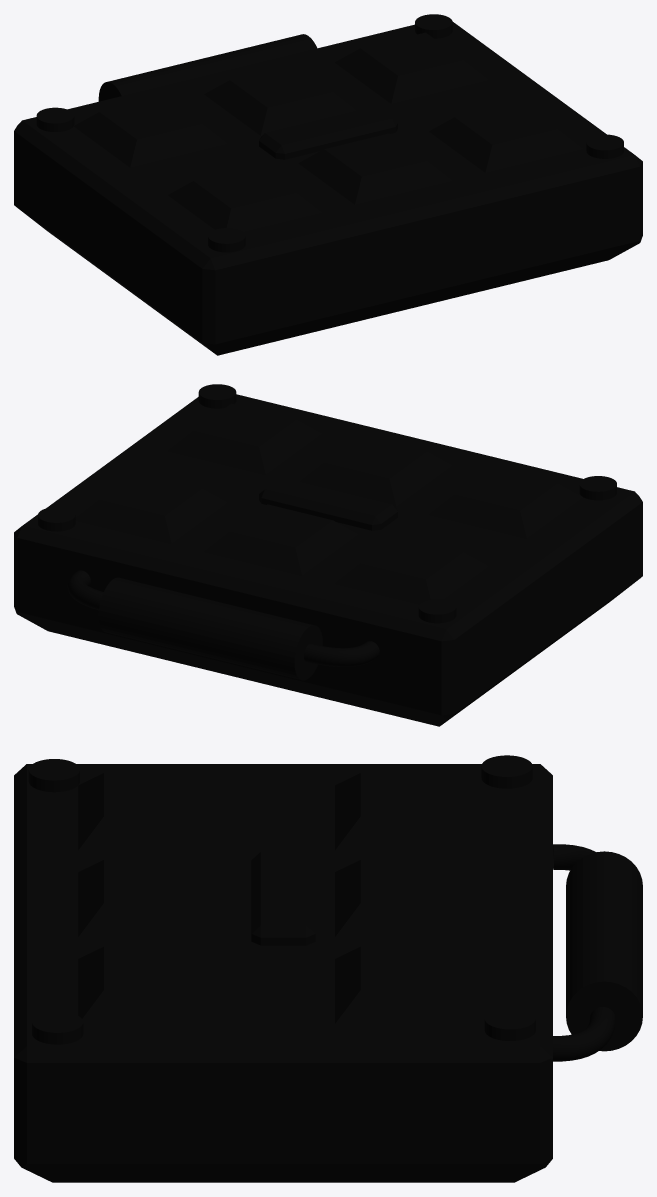
The model's file is Bomb.fbx.
3 views of the same model, one above another, from view 1: azimuth 30°, elevation 25°; view 2: azimuth 150°, elevation 25°; view 3: azimuth 270°, elevation 25° (orthographic). The views are drawn at different scales.
Parts seen in each view (by area): view 1: node_id19, node_id17, node_id15, node_id11, node_id13; view 2: node_id19, node_id17, node_id11, node_id15, node_id13, node_id7, node_id5; view 3: node_id19, node_id17, node_id11, node_id13, node_id15, node_id5, node_id7.
Boxes of the visible parts, x1,y1,x2,y2 form: node_id19: (14, 22, 642, 355); node_id17: (74, 32, 582, 231); node_id15: (259, 106, 397, 159); node_id11: (98, 34, 316, 101); node_id13: (36, 14, 623, 252); node_id19: (14, 394, 642, 726); node_id17: (75, 403, 582, 604); node_id11: (98, 577, 322, 680); node_id15: (259, 477, 397, 530); node_id13: (38, 384, 616, 623); node_id7: (304, 641, 379, 666); node_id5: (67, 570, 103, 610); node_id19: (14, 764, 552, 1182); node_id17: (78, 773, 488, 1024); node_id11: (566, 851, 642, 1051); node_id13: (28, 755, 535, 1044); node_id15: (251, 852, 315, 945); node_id5: (553, 1007, 615, 1061); node_id7: (553, 844, 595, 870).
Size of the model in its own units: 0.512 by 0.1392 by 0.4646.
Materials: 8 (8 with a texture image).
